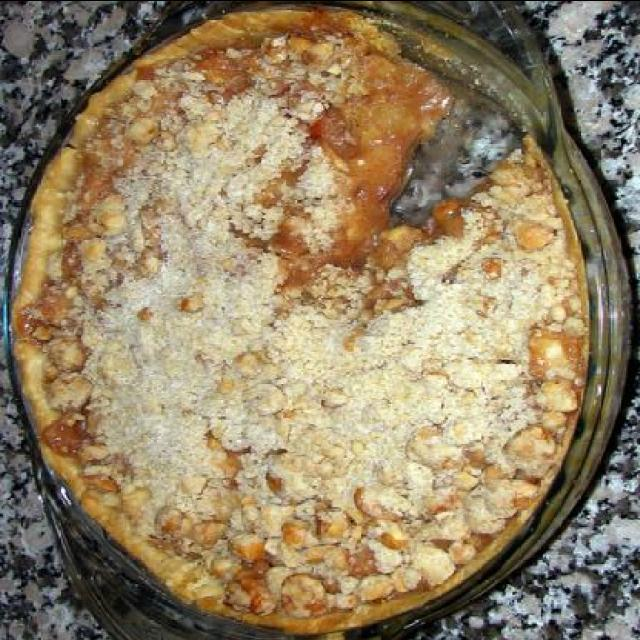Apple: (12, 18, 554, 624)
